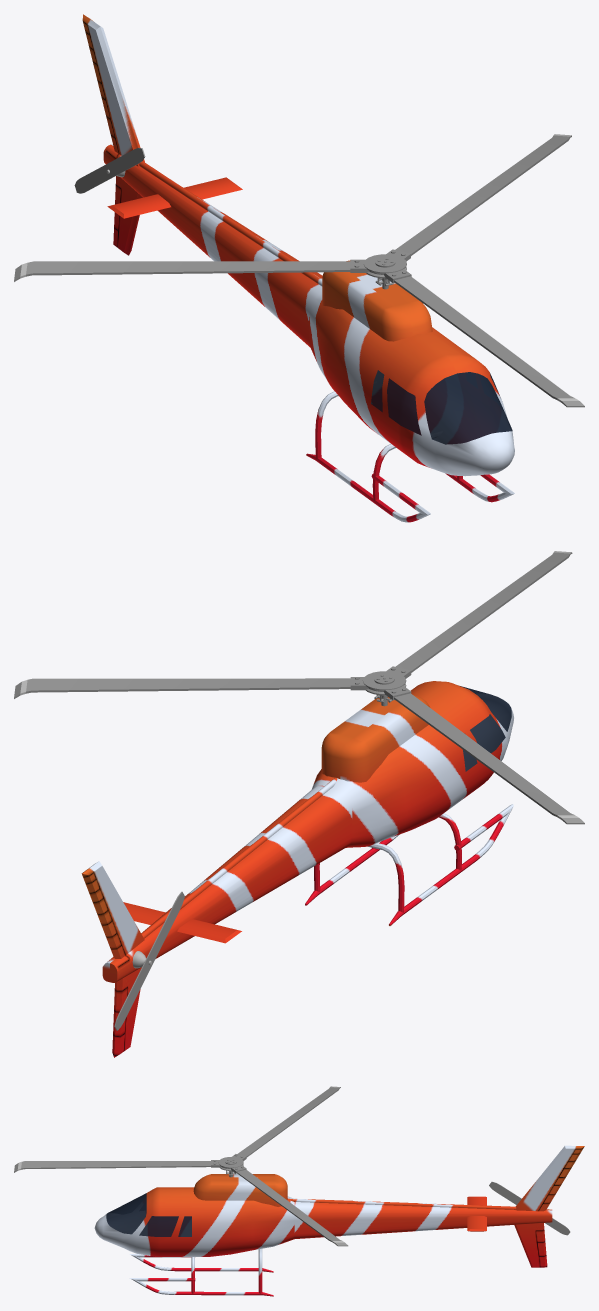
Rendered from helicopter.FBX.
3 views of the same model, one above another, from view 1: azimuth 30°, elevation 25°; view 2: azimuth 150°, elevation 25°; view 3: azimuth 270°, elevation 25° (orthographic). The views are drawn at different scales.
Visible parts, largest first — view 1: nhhull1, nhprpsil, nhglass, nhbpwht; view 2: nhhull1, nhprpsil, nhglass, nhbpwht; view 3: nhhull1, nhprpsil, nhglass, nhbpwht.
Boxes of the visible parts, <box> form: nhhull1: <box>82,14,514,522</box>; nhprpsil: <box>14,135,584,407</box>; nhglass: <box>371,370,512,444</box>; nhbpwht: <box>76,148,141,193</box>; nhhull1: <box>81,681,513,1057</box>; nhprpsil: <box>14,552,584,824</box>; nhglass: <box>460,686,511,771</box>; nhbpwht: <box>116,896,182,1026</box>; nhhull1: <box>94,1145,584,1296</box>; nhprpsil: <box>14,1087,348,1246</box>; nhglass: <box>106,1193,191,1236</box>; nhbpwht: <box>492,1183,567,1234</box>.
Bounding box in the file's own units: 337 × 135 × 505.
6 materials, 3 textured.
